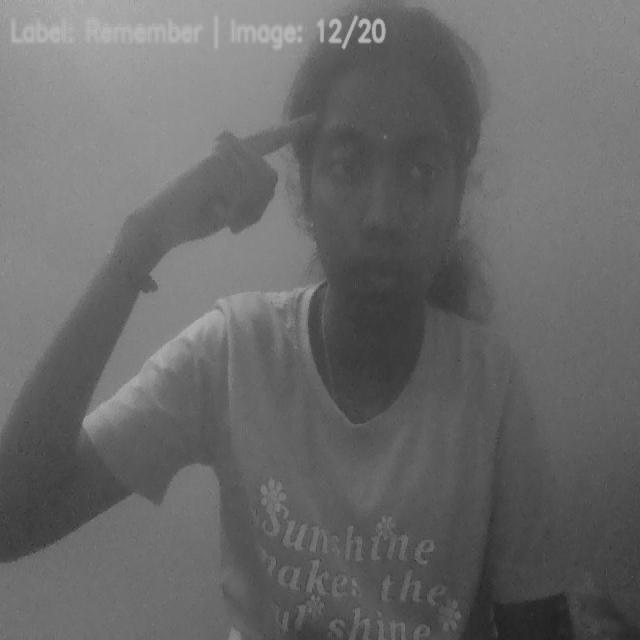Remember: (125, 103, 324, 280)
